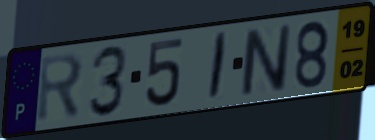3: (88, 43, 129, 119)
5: (145, 35, 186, 109)
8: (293, 18, 330, 91)
I: (205, 30, 230, 104)
N: (240, 22, 293, 99)
R: (35, 50, 87, 126)
